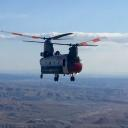helicopter: (1, 31, 107, 82)
